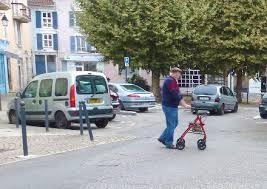walking_frame: (157, 67, 210, 150)
